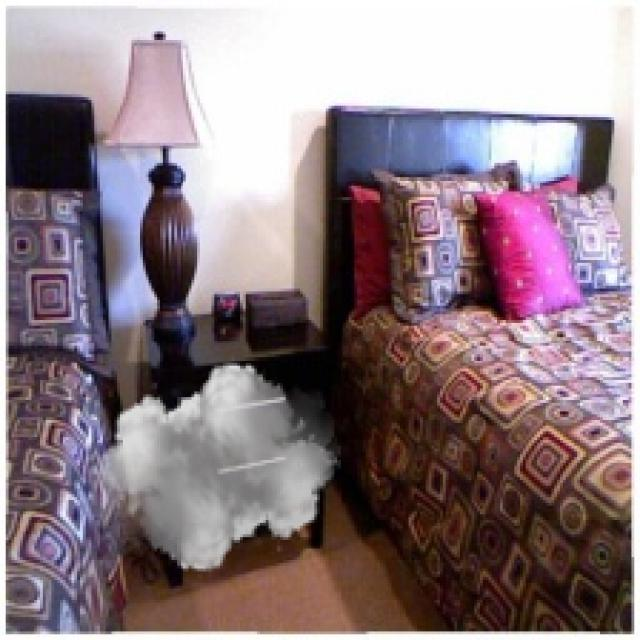smoke: (94, 354, 340, 580)
